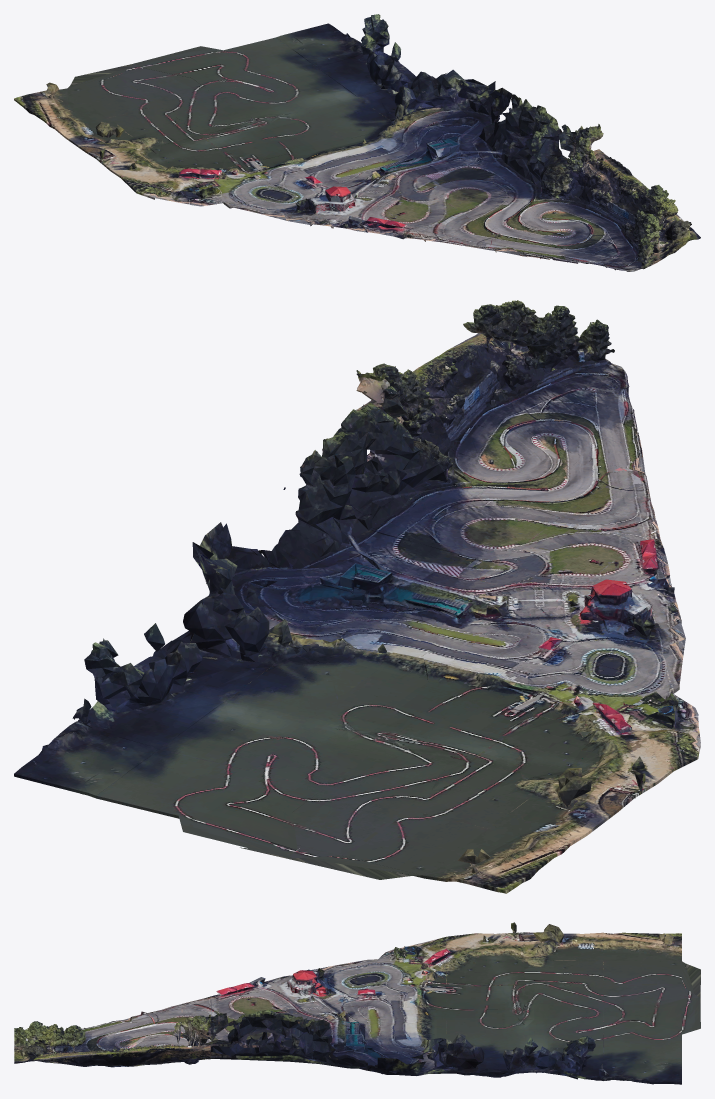
File: SanxenxoKarting.fbx
3 renders of one model, top to bottom at view 1: azimuth 30°, elevation 25°; view 2: azimuth 150°, elevation 25°; view 3: azimuth 270°, elevation 25°, orthographic. The views are drawn at different scales.
Visible parts, largest first — view 1: BuildingMesh-00124.001; view 2: BuildingMesh-00124.001; view 3: BuildingMesh-00124.001.
Boxes of the visible parts, x1,y1,x2,y2 form: BuildingMesh-00124.001: (14,14,700,271); BuildingMesh-00124.001: (14,300,700,893); BuildingMesh-00124.001: (14,922,700,1084).
Bounding box in the file's own units: 29994 × 6676 × 54245.
Materials: 36 (36 with a texture image).
